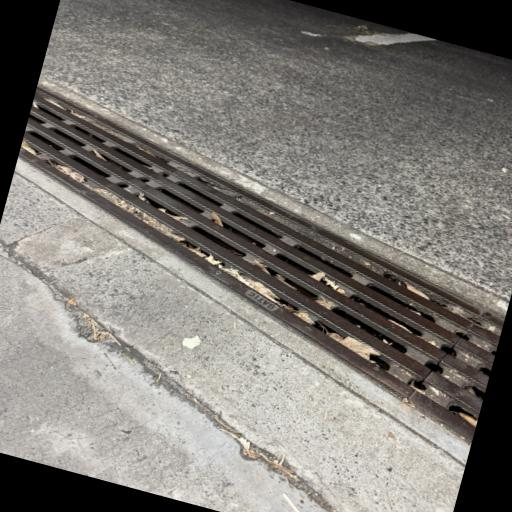gutter: (17, 75, 500, 447)
